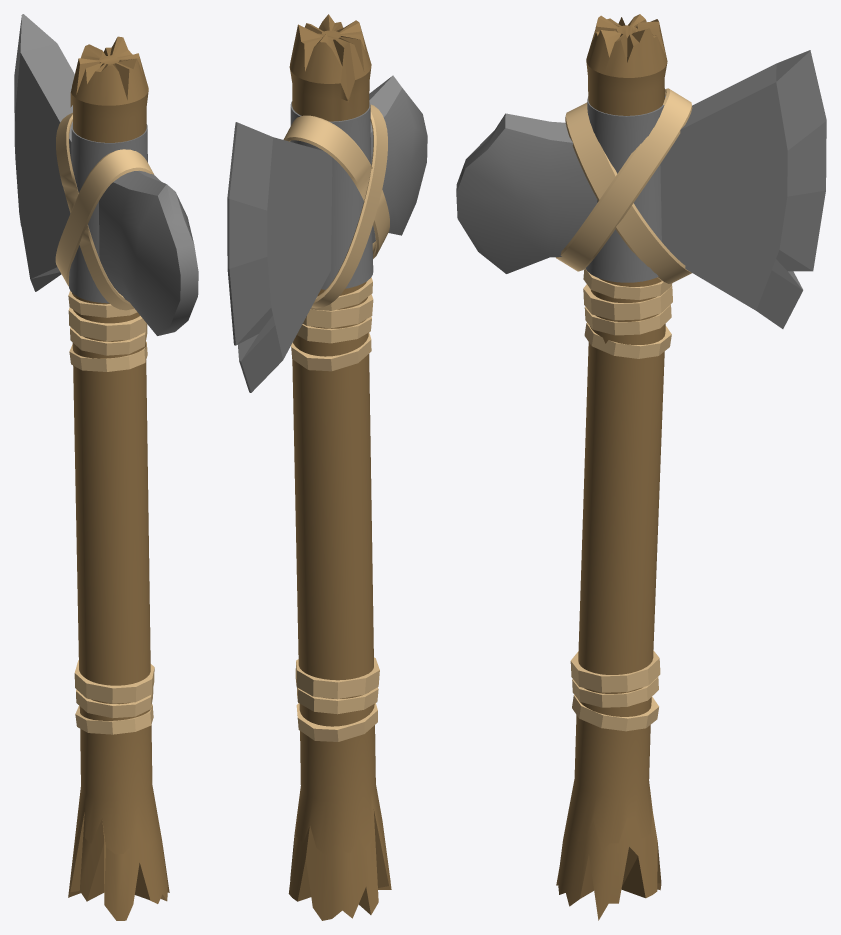
The model's file is axe.glb.
3 views of the same model, side by side, from view 1: azimuth 30°, elevation 25°; view 2: azimuth 150°, elevation 25°; view 3: azimuth 270°, elevation 25° (orthographic). The views are drawn at different scales.
Visible parts, largest first — view 1: Cylinder.051; view 2: Cylinder.051; view 3: Cylinder.051.
Boxes of the visible parts, x1=… form: Cylinder.051: x1=14, y1=14, x2=198, y2=920; Cylinder.051: x1=227, y1=14, x2=427, y2=920; Cylinder.051: x1=456, y1=14, x2=826, y2=920.
Bounding box in the file's own units: 0.1623 × 1.47 × 0.5608.
